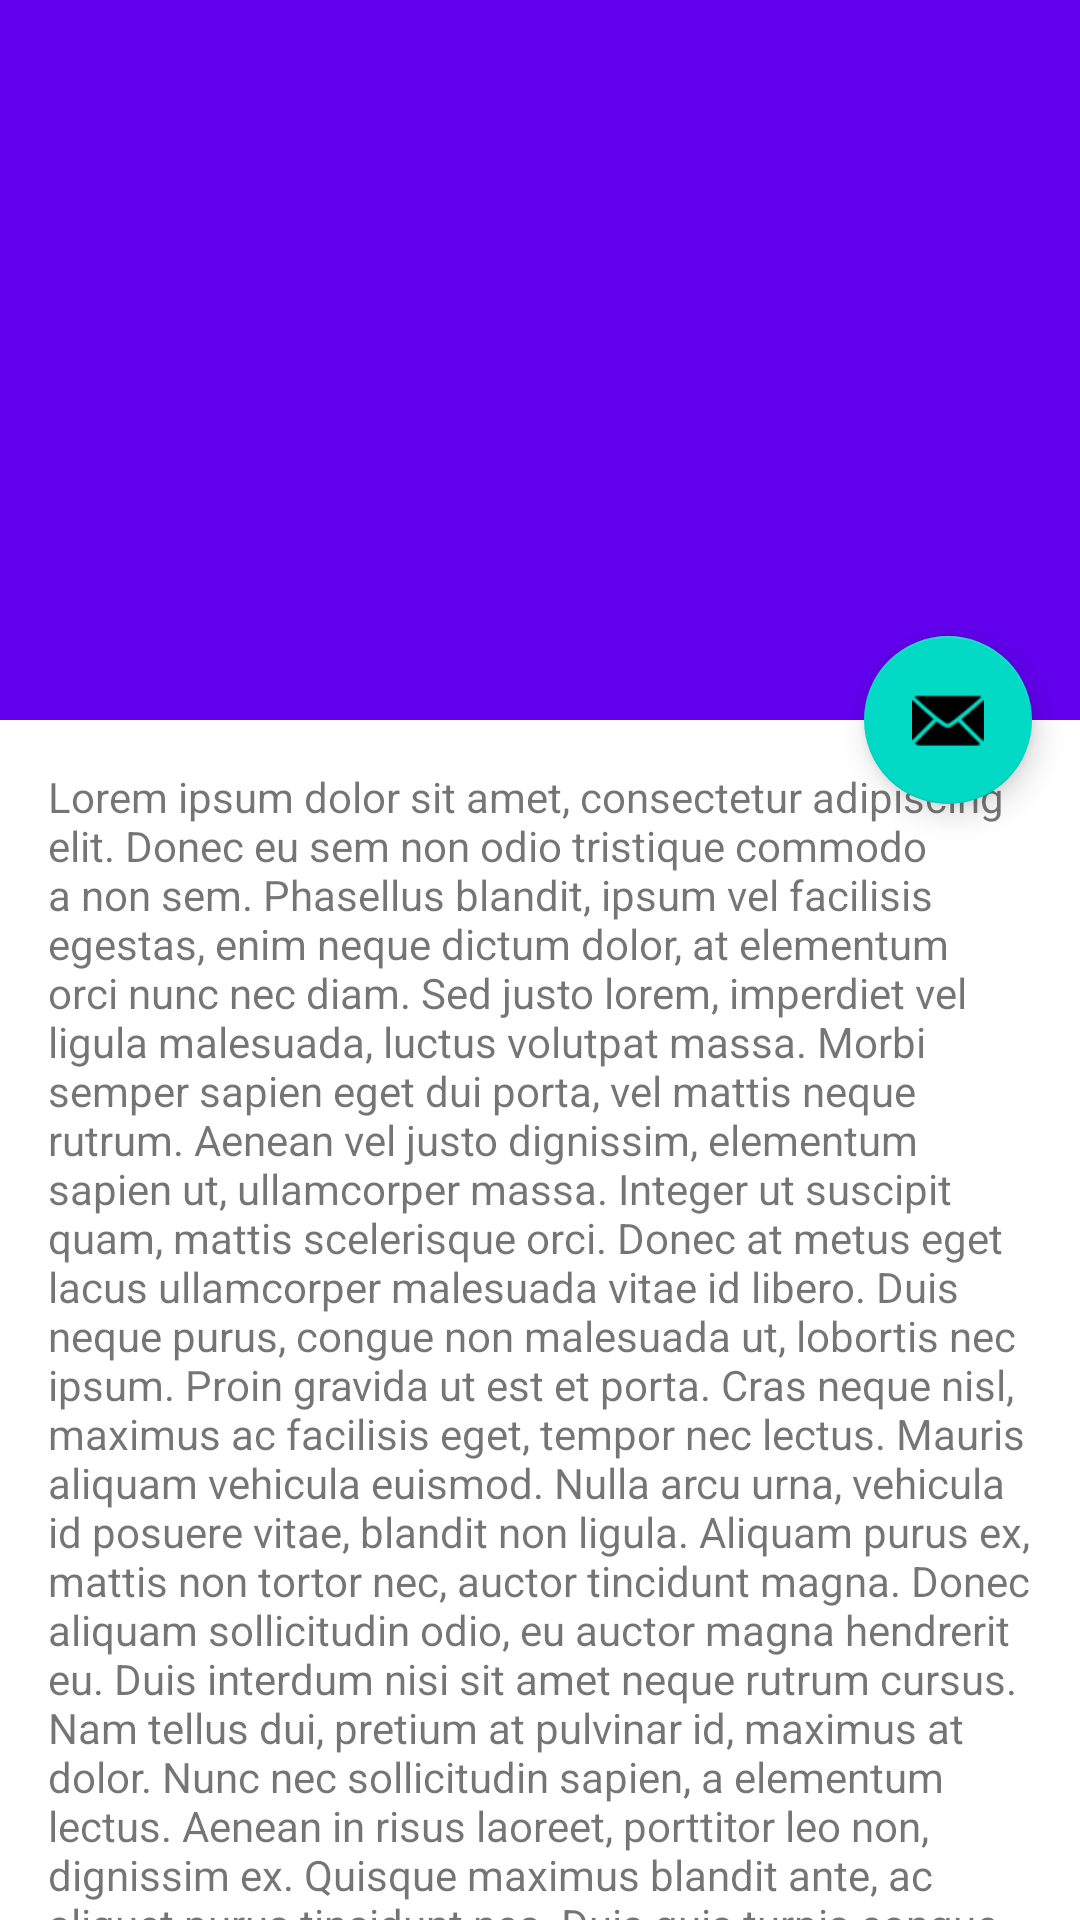

Point at icon controls on the screen. Image size 1080w x 1920h, points as [x,y].
email: [948,720]
